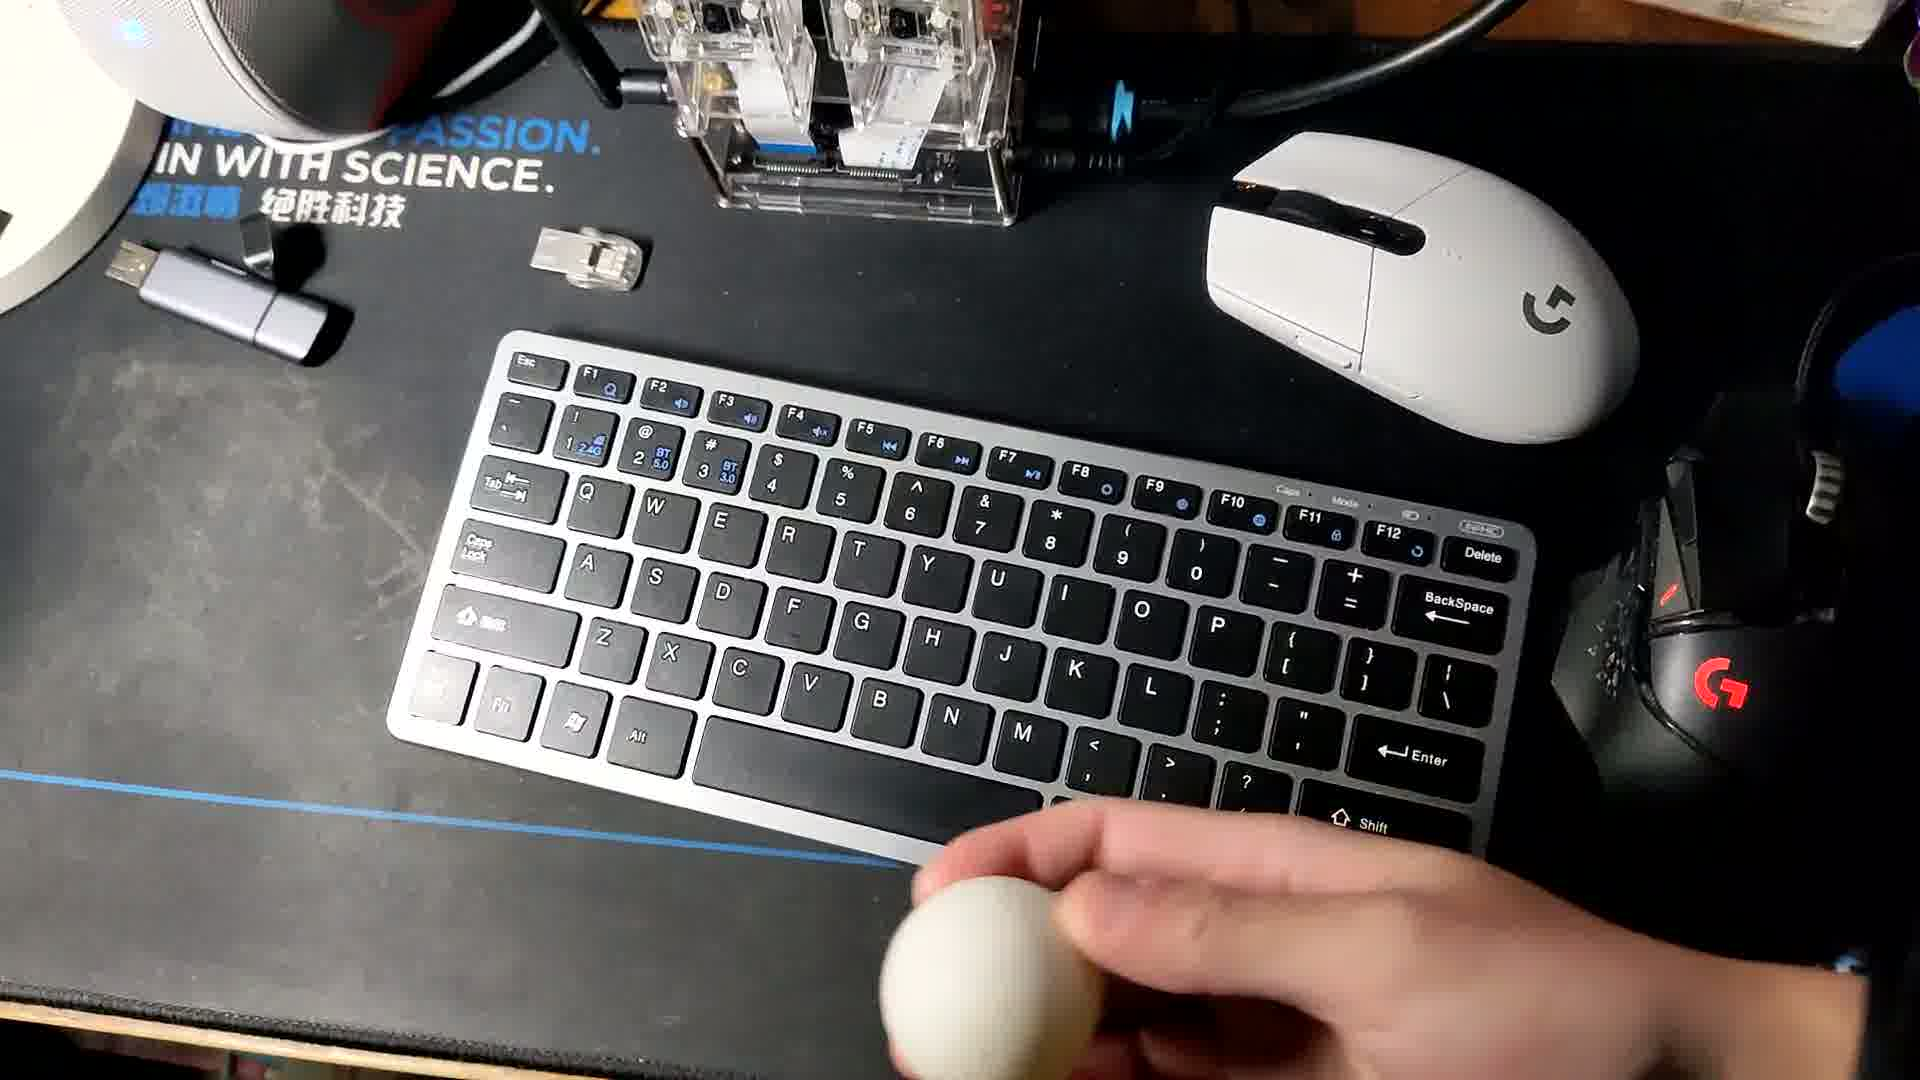Ball: (882, 876, 1108, 1080)
